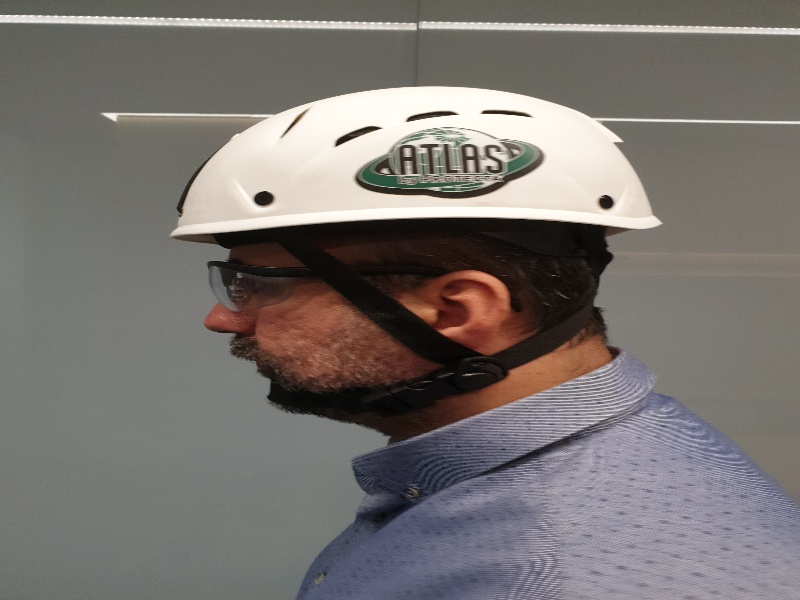Baret: (175, 84, 658, 234)
Gozluk: (205, 257, 440, 312)
